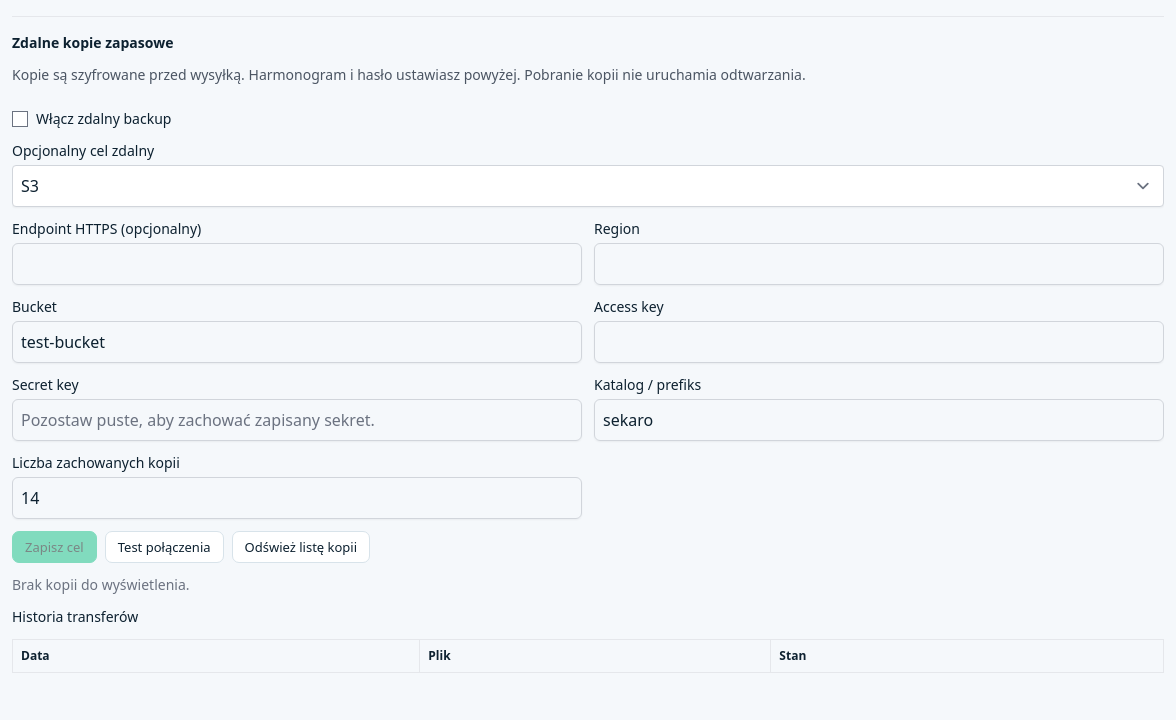
switches provider fields and locks remote actions until changes are saved
The width and height of the screenshot is (1176, 720).
Select "SFTP" in the dropdown at (588, 186), box [12,165,1164,207]
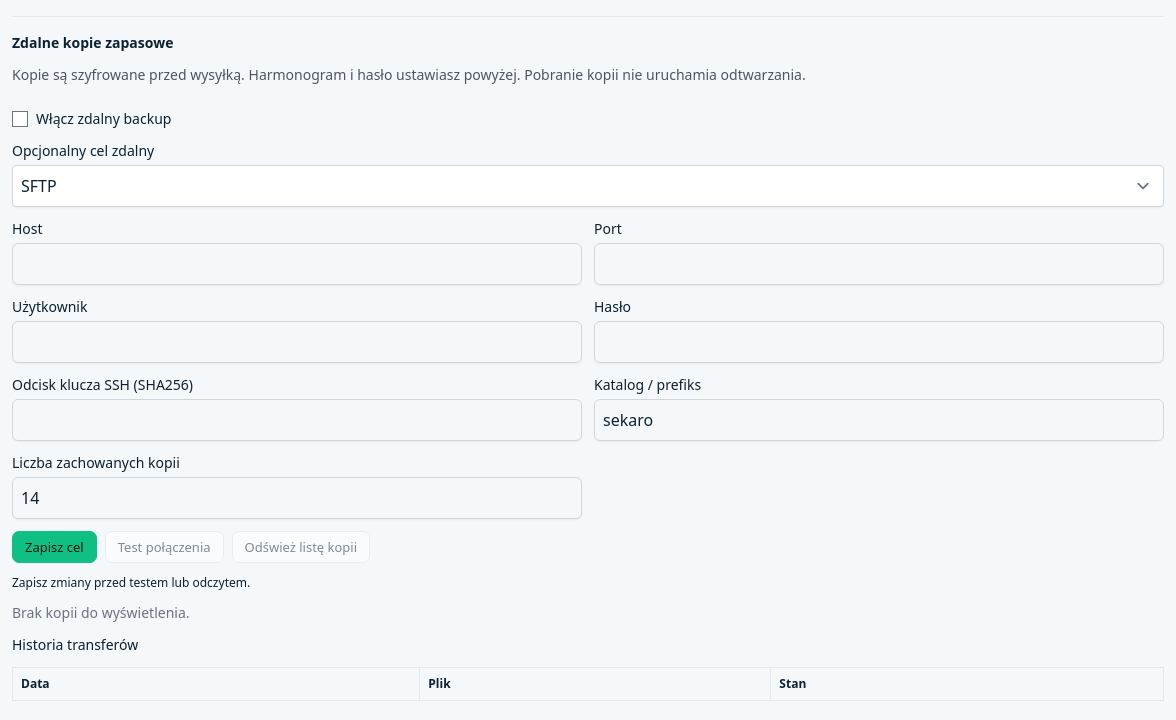
Now the field labelled "Odcisk klucza SSH (SHA256)" is shown, box [12,399,582,441]
Now the label labelled "Bucket" is gone
Now the button "Test połączenia" is disabled, box [105,531,224,563]
